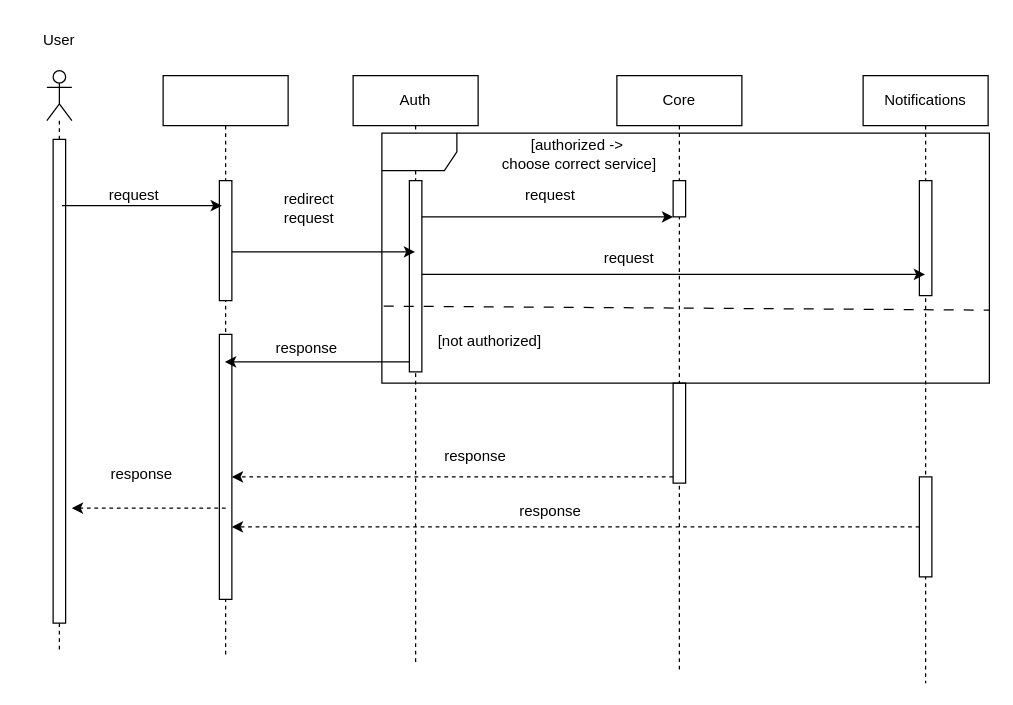
Some shapes in this 1013 by 705 pixel diagram are drawn without their labels. The box of each missing label's shape, as (x1, y1, x2, y2) in pixels:
alt: (381, 132, 989, 383)
Gateway: (162, 74, 288, 657)
